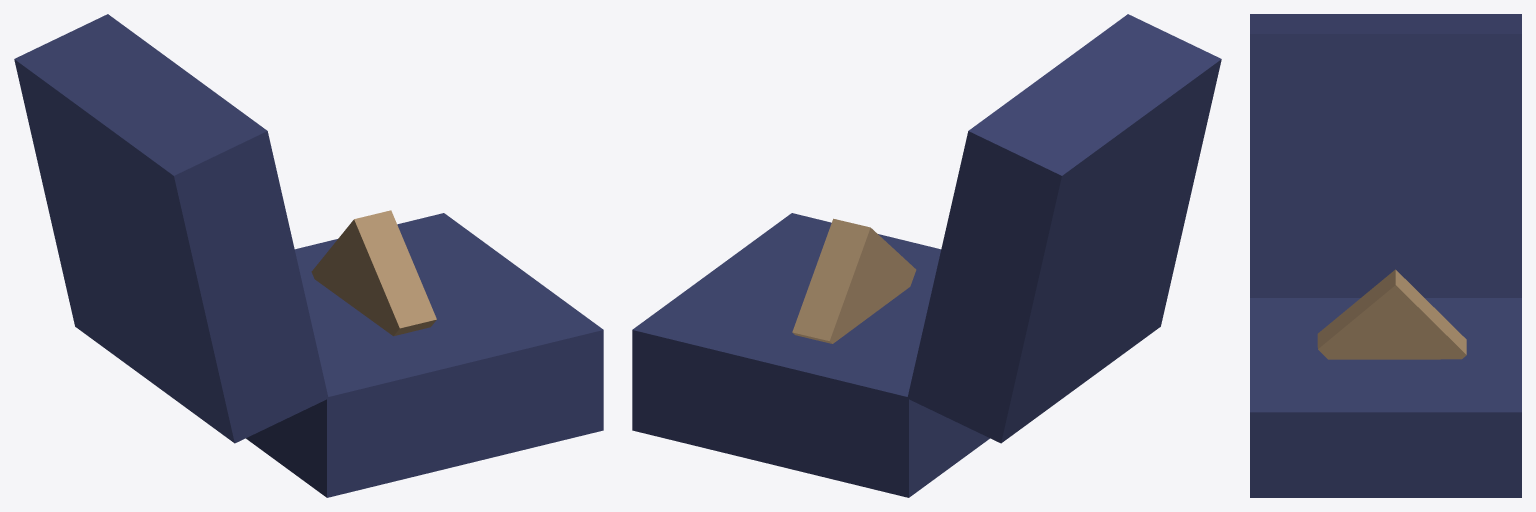
Rendered from ringcase_withring.fbx.
3 views of the same model, side by side, from view 1: azimuth 30°, elevation 25°; view 2: azimuth 150°, elevation 25°; view 3: azimuth 270°, elevation 25° (orthographic). The views are drawn at different scales.
Visible parts, largest first — view 1: ringcase, ring; view 2: ringcase, ring; view 3: ringcase, ring.
Part boxes in pixels (x1=…): ringcase: x1=14, y1=14, x2=603, y2=497; ring: x1=311, y1=210, x2=436, y2=336; ringcase: x1=632, y1=14, x2=1221, y2=497; ring: x1=792, y1=218, x2=916, y2=343; ringcase: x1=1250, y1=14, x2=1521, y2=497; ring: x1=1317, y1=269, x2=1466, y2=359.
Bounding box in the file's own units: 311 × 264 × 200.
